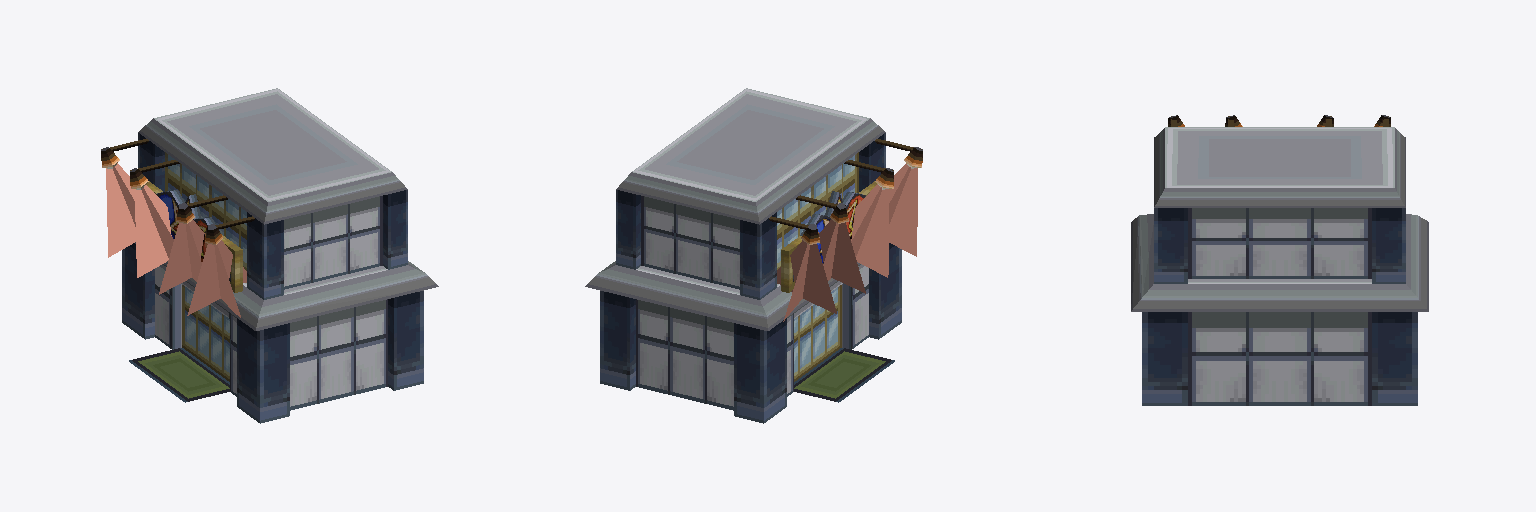
3 renders of one model, left to right at view 1: azimuth 30°, elevation 25°; view 2: azimuth 150°, elevation 25°; view 3: azimuth 270°, elevation 25°, orthographic.
Parts seen in each view (by area): view 1: polygon0, polygon3, polygon1; view 2: polygon0, polygon3, polygon1; view 3: polygon0.
Part boxes in pixels (x1,y1,x2,y2): polygon0: (101, 88, 438, 423); polygon3: (106, 163, 246, 317); polygon1: (156, 191, 207, 261); polygon0: (585, 88, 922, 423); polygon3: (777, 163, 917, 321); polygon1: (816, 193, 865, 263); polygon0: (1131, 115, 1428, 405).
Size of the model in its own units: 5.48 by 5.12 by 7.
Materials: 4 (4 with a texture image).